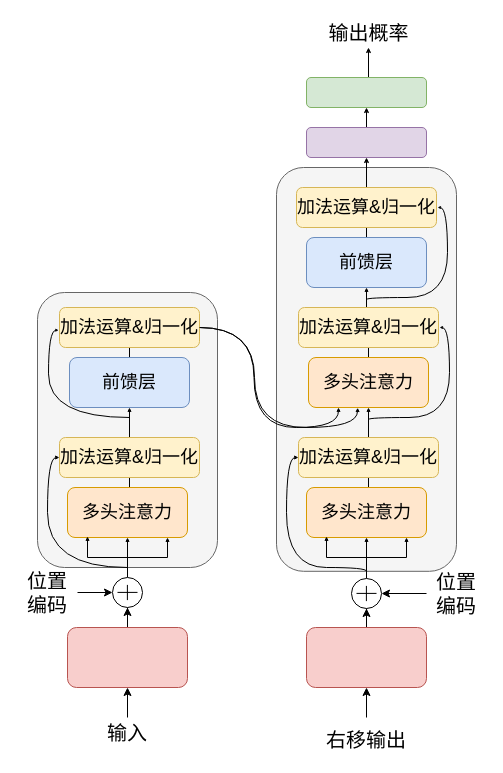
Some shapes in this 503 by 773 pixel diagram are drawn without their labels. Each missing label, with the centre of its shape:
Softmax: point (366, 92)
线性层: point (366, 142)
输入嵌入: point (127, 657)
输出嵌入: point (366, 657)
